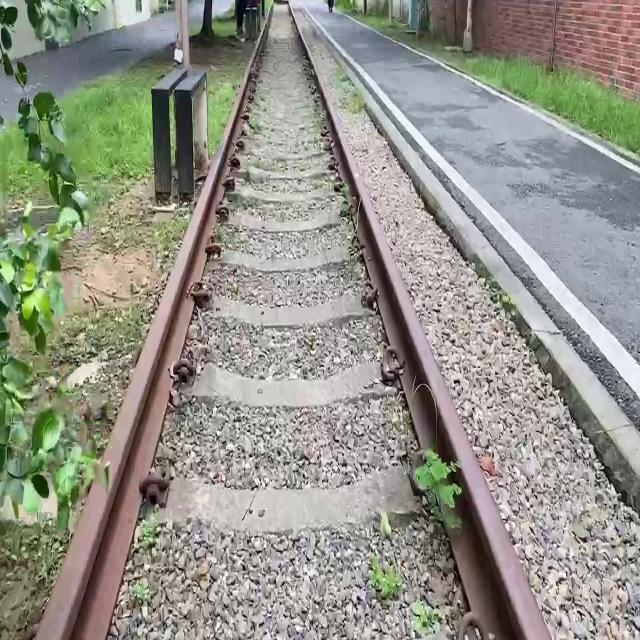rail-track: (110, 5, 466, 639)
